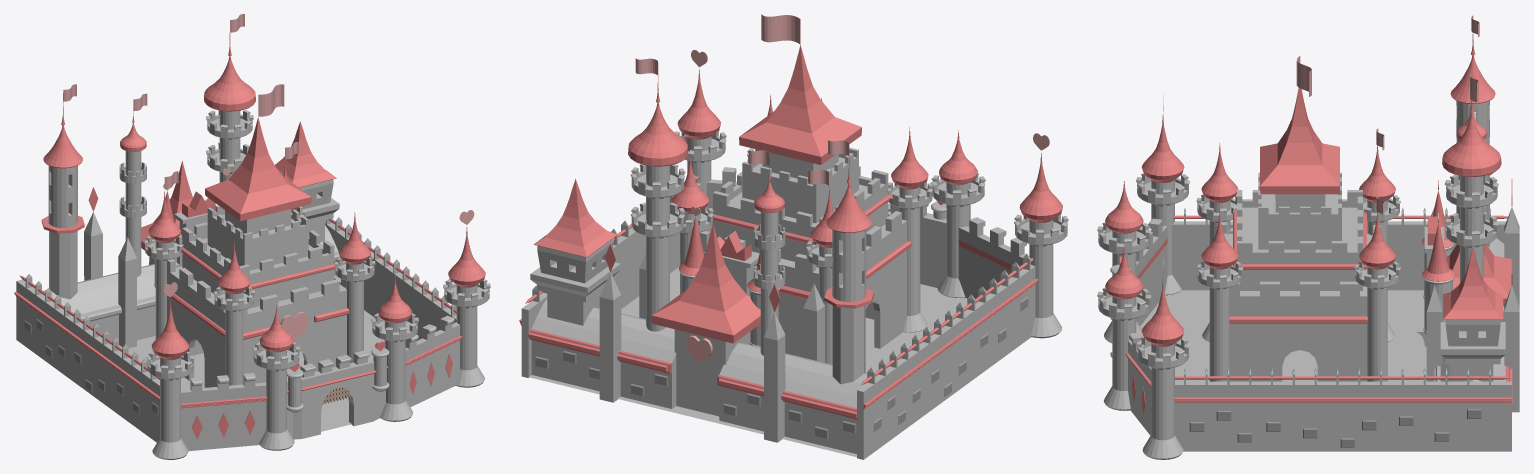
File: alice_castle.fbx
3 renders of one model, left to right at view 1: azimuth 30°, elevation 25°; view 2: azimuth 150°, elevation 25°; view 3: azimuth 270°, elevation 25°, orthographic. The views are drawn at different scales.
Visible parts, largest first — view 1: alice_castl; view 2: alice_castl; view 3: alice_castl.
Part boxes in pixels (<box>): alice_castl: <box>14,14,490,459</box>; alice_castl: <box>519,14,1068,459</box>; alice_castl: <box>1097,15,1519,459</box>.
Size of the model in its own units: 1140 by 923 by 1090.
